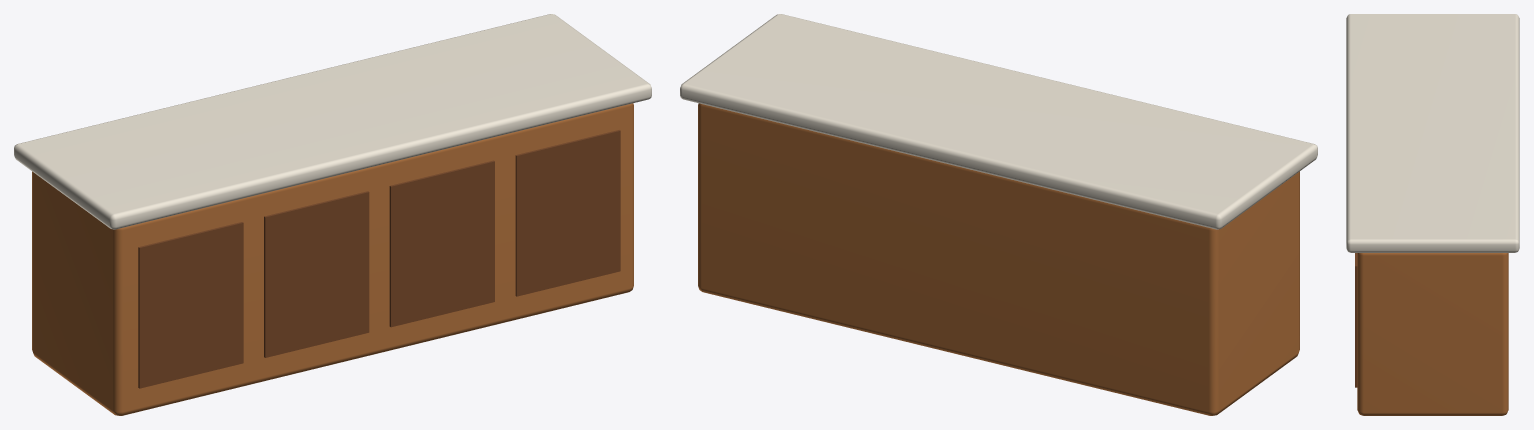
Rendered from counter.glb.
3 views of the same model, side by side, from view 1: azimuth 30°, elevation 25°; view 2: azimuth 150°, elevation 25°; view 3: azimuth 270°, elevation 25° (orthographic). The views are drawn at different scales.
Visible parts, largest first — view 1: Top, Body, Panel.001, Panel.003, Panel, Panel.002; view 2: Body, Top; view 3: Top, Body, Panel.003.
Boxes of the visible parts, box(x1,y1,x2,y2) form: Top: box(14, 14, 651, 229); Body: box(32, 103, 633, 415); Panel.001: box(264, 191, 369, 357); Panel.003: box(515, 130, 620, 296); Panel: box(138, 222, 243, 388); Panel.002: box(389, 160, 494, 327); Body: box(698, 103, 1299, 415); Top: box(680, 14, 1317, 229); Top: box(1346, 14, 1519, 252); Body: box(1357, 253, 1508, 415); Panel.003: box(1355, 253, 1357, 387).
Bounding box in the file's own units: 2.5 × 0.93 × 0.8.
